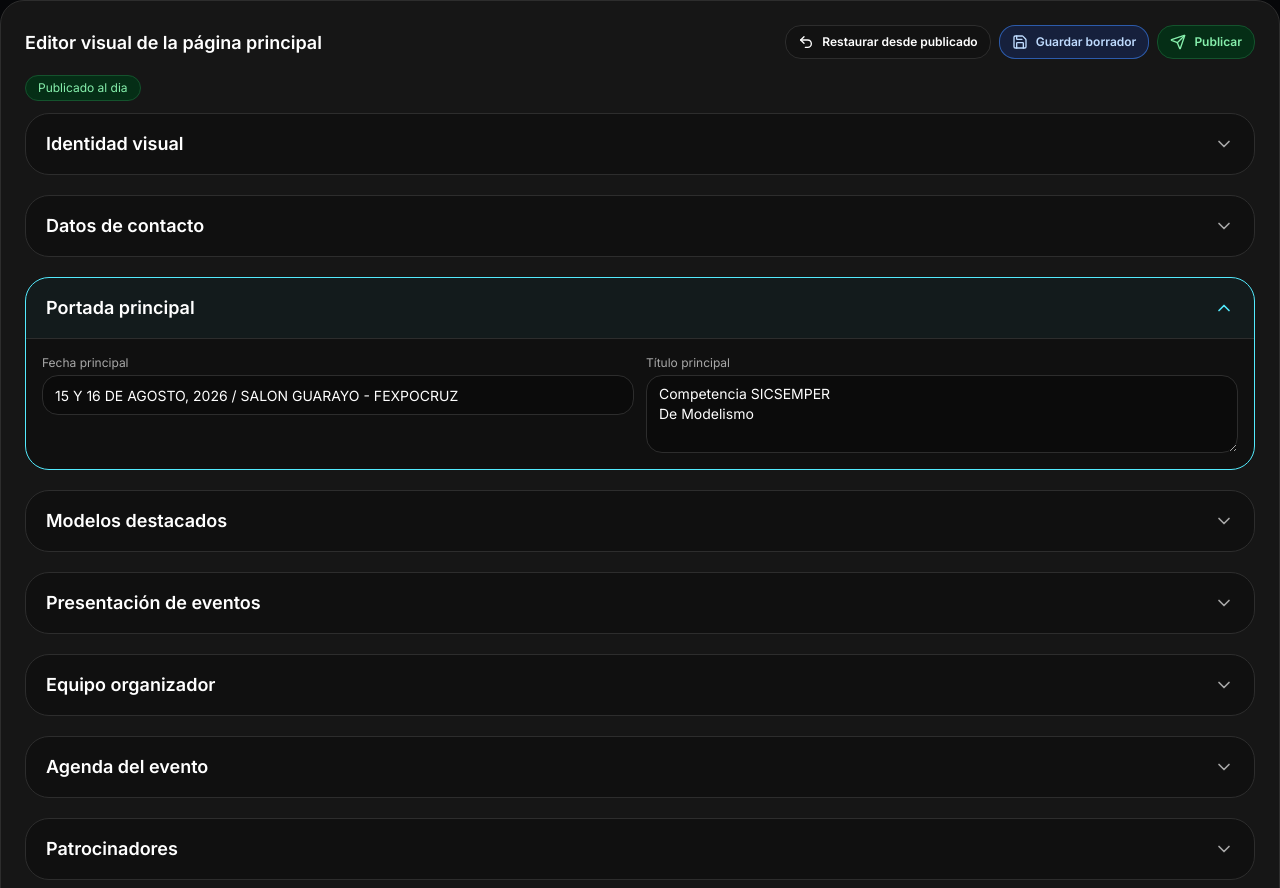
Test: AdminLandingSection accordion › opens Hero initially and switches to one section at a time
The width and height of the screenshot is (1280, 888).
Expected: the text "Título principal" is shown, [646,355,1238,453]
Expected: the text "Correo de contacto" is not shown
Click the button "Datos de contacto". click: (125, 226)
box: [26,196,1254,256]
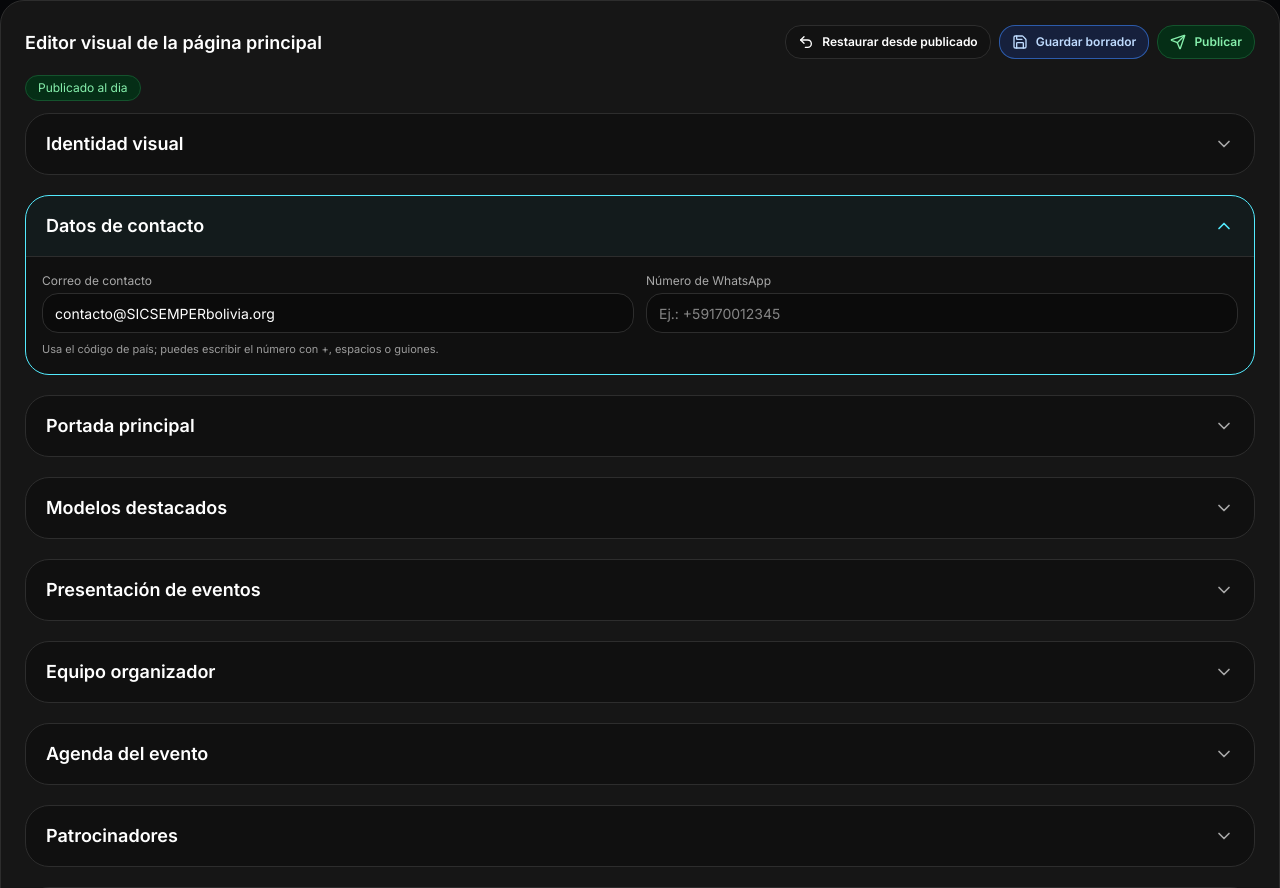
Expected: the button "Datos de contacto" is expanded, [26,196,1254,256]
Expected: the button "Portada principal" is collapsed, [26,396,1254,456]
Expected: the text "Correo de contacto" is shown, [42,273,634,333]
